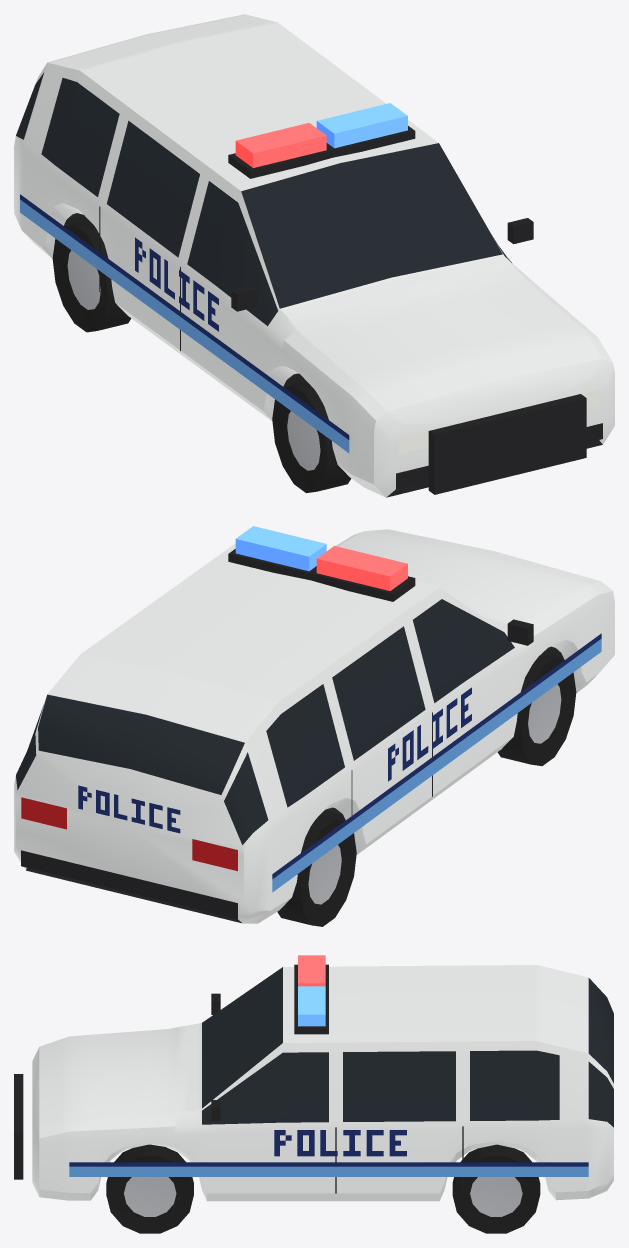
Rendered from nyc_police.glb.
The picture shows the model from 3 angles, top to bottom: view 1: azimuth 30°, elevation 25°; view 2: azimuth 150°, elevation 25°; view 3: azimuth 270°, elevation 25°; orthographic projection. The views are drawn at different scales.
Parts seen in each view (by area): view 1: nyc_police; view 2: nyc_police; view 3: nyc_police.
Boxes of the visible parts, x1=… form: nyc_police: x1=14, y1=14, x2=614, y2=497; nyc_police: x1=14, y1=526, x2=614, y2=926; nyc_police: x1=14, y1=955, x2=613, y2=1233.
Bounding box in the file's own units: 2.34 × 1.92 × 5.21.
Materials: 3 (1 with a texture image).
